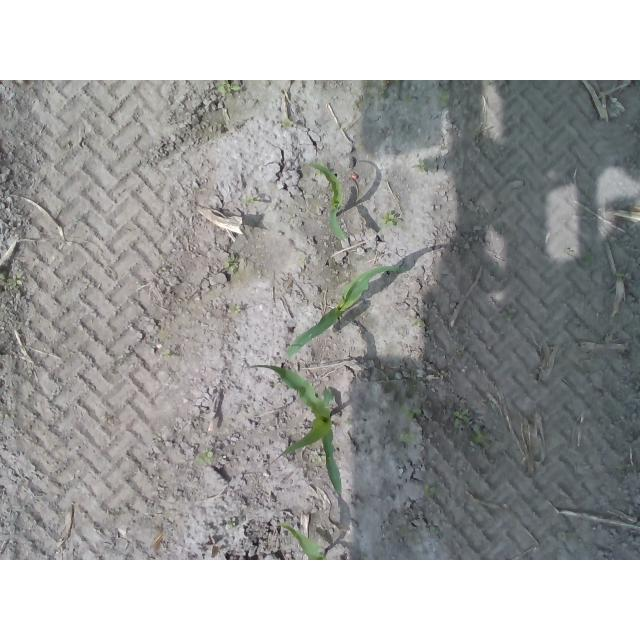Maize: (248, 364, 345, 501), (282, 263, 403, 357), (309, 161, 350, 243), (284, 524, 327, 561)
Weeds: (195, 448, 214, 465), (473, 432, 491, 449), (401, 405, 420, 421), (218, 82, 241, 95), (454, 408, 471, 424), (4, 274, 24, 287), (401, 428, 416, 443), (223, 260, 238, 273), (383, 213, 398, 226), (311, 451, 325, 464), (424, 485, 437, 498), (226, 518, 235, 529), (231, 304, 241, 313)
